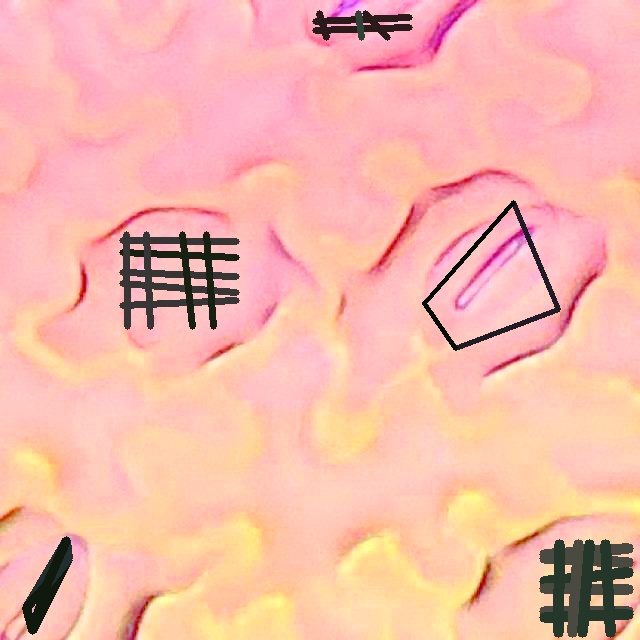close: (119, 232, 239, 329), (539, 540, 633, 636)
open: (423, 200, 559, 349), (22, 537, 71, 633), (312, 10, 412, 40)
